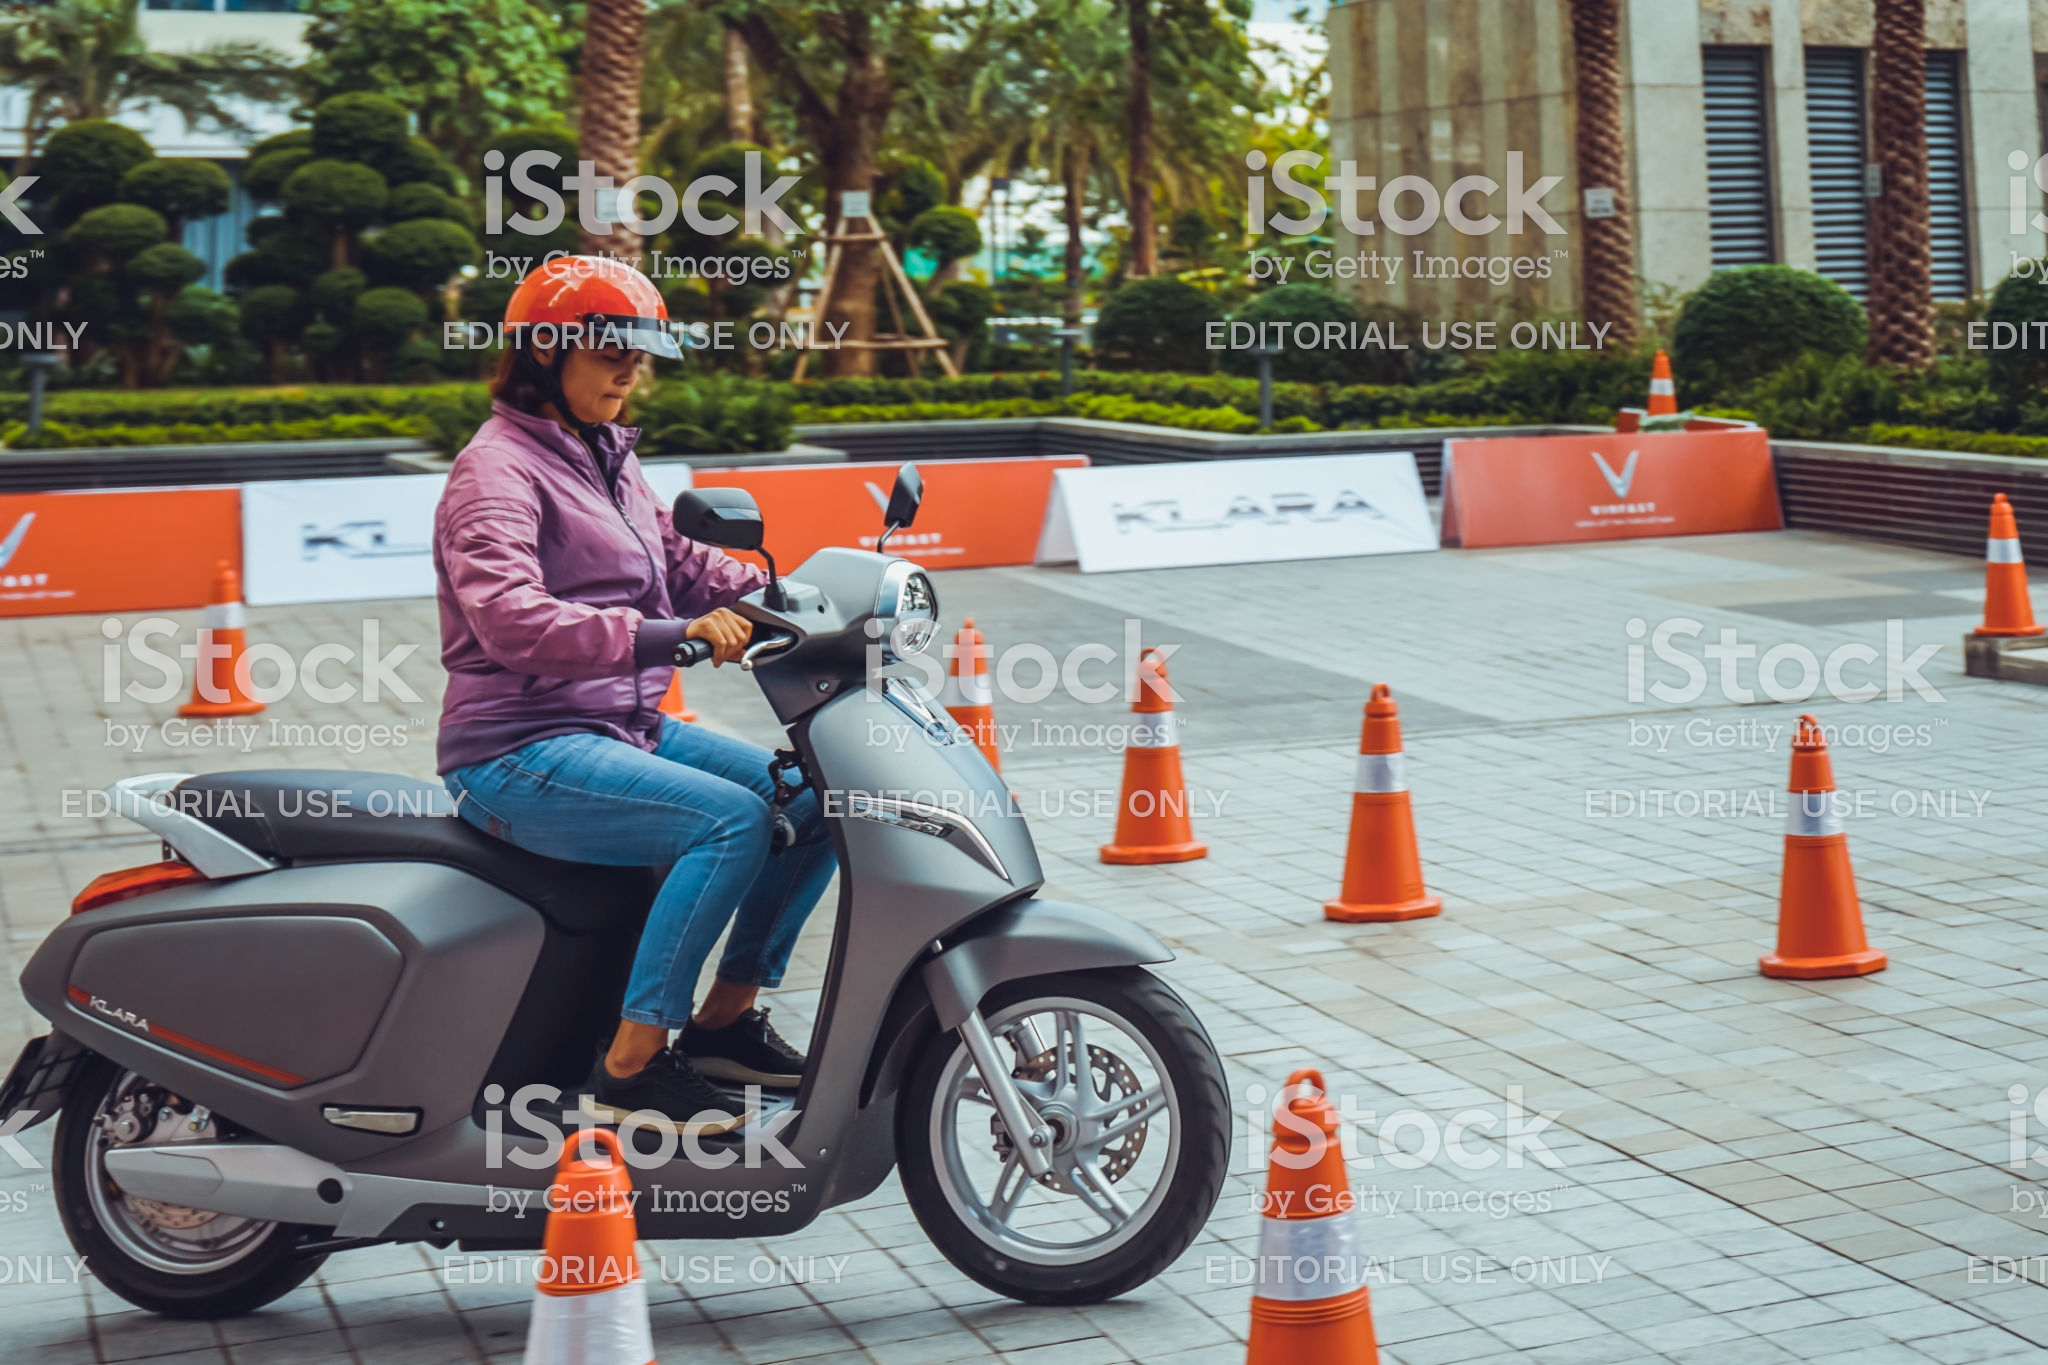helmet: (481, 244, 678, 369)
